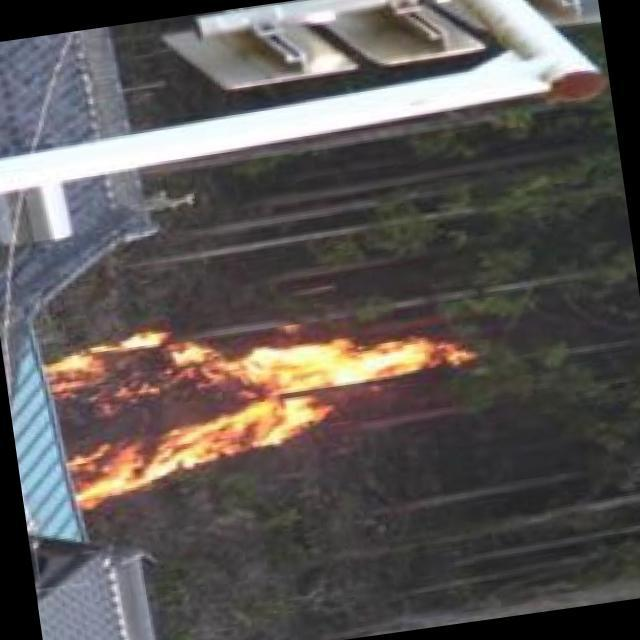Fire: (52, 294, 465, 511)
